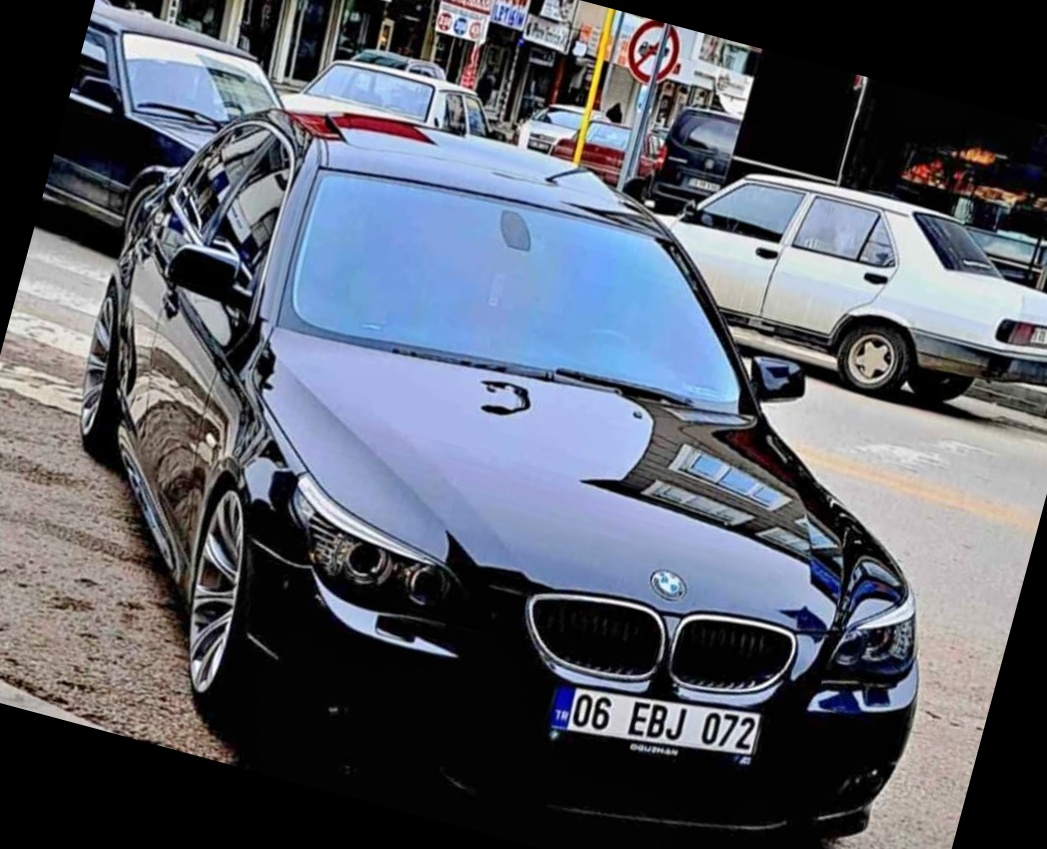plaka: (569, 678, 763, 760)
